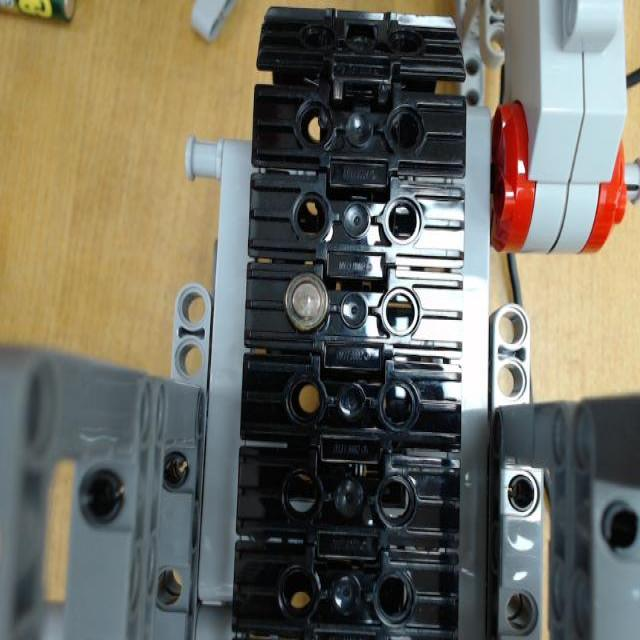COIN: (285, 272, 329, 332)
